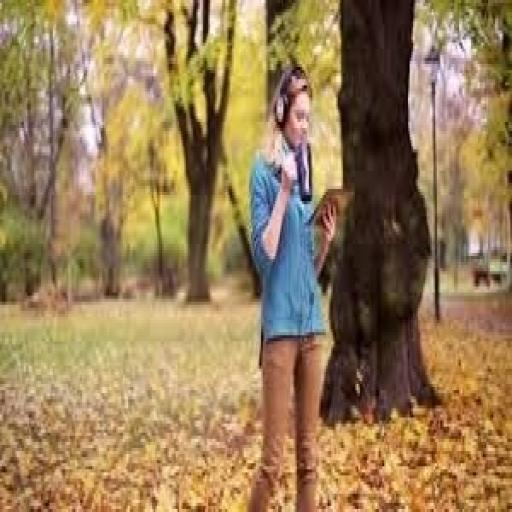listening_to_music: (246, 61, 348, 509)
